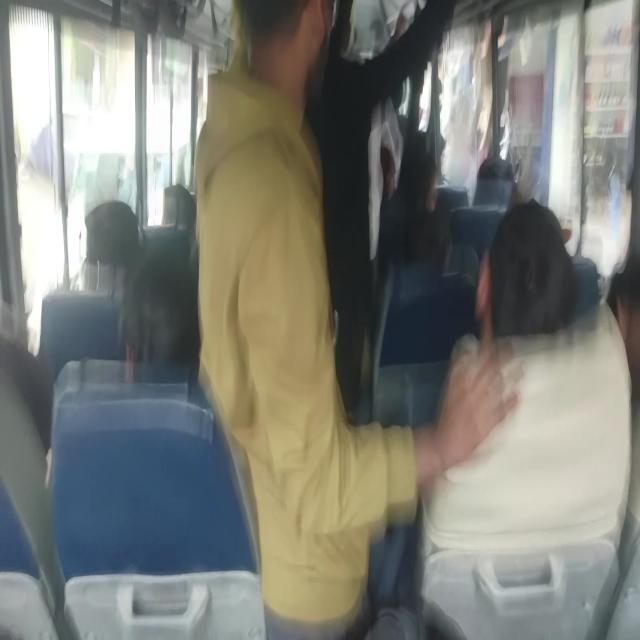person: (234, 3, 331, 121), (570, 239, 640, 366), (124, 221, 184, 350), (0, 300, 50, 441), (326, 11, 378, 105), (490, 232, 546, 306), (89, 217, 144, 272), (422, 152, 456, 237), (162, 185, 202, 253), (462, 132, 506, 192)
